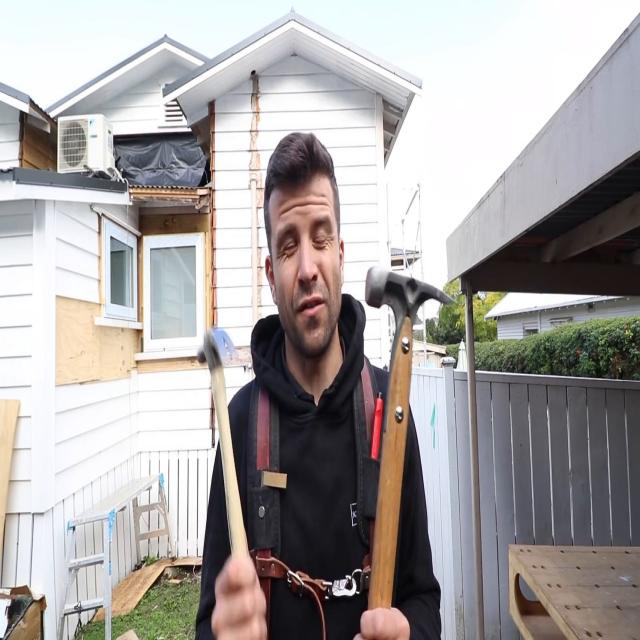hammer: (364, 267, 452, 609), (198, 326, 251, 560)
